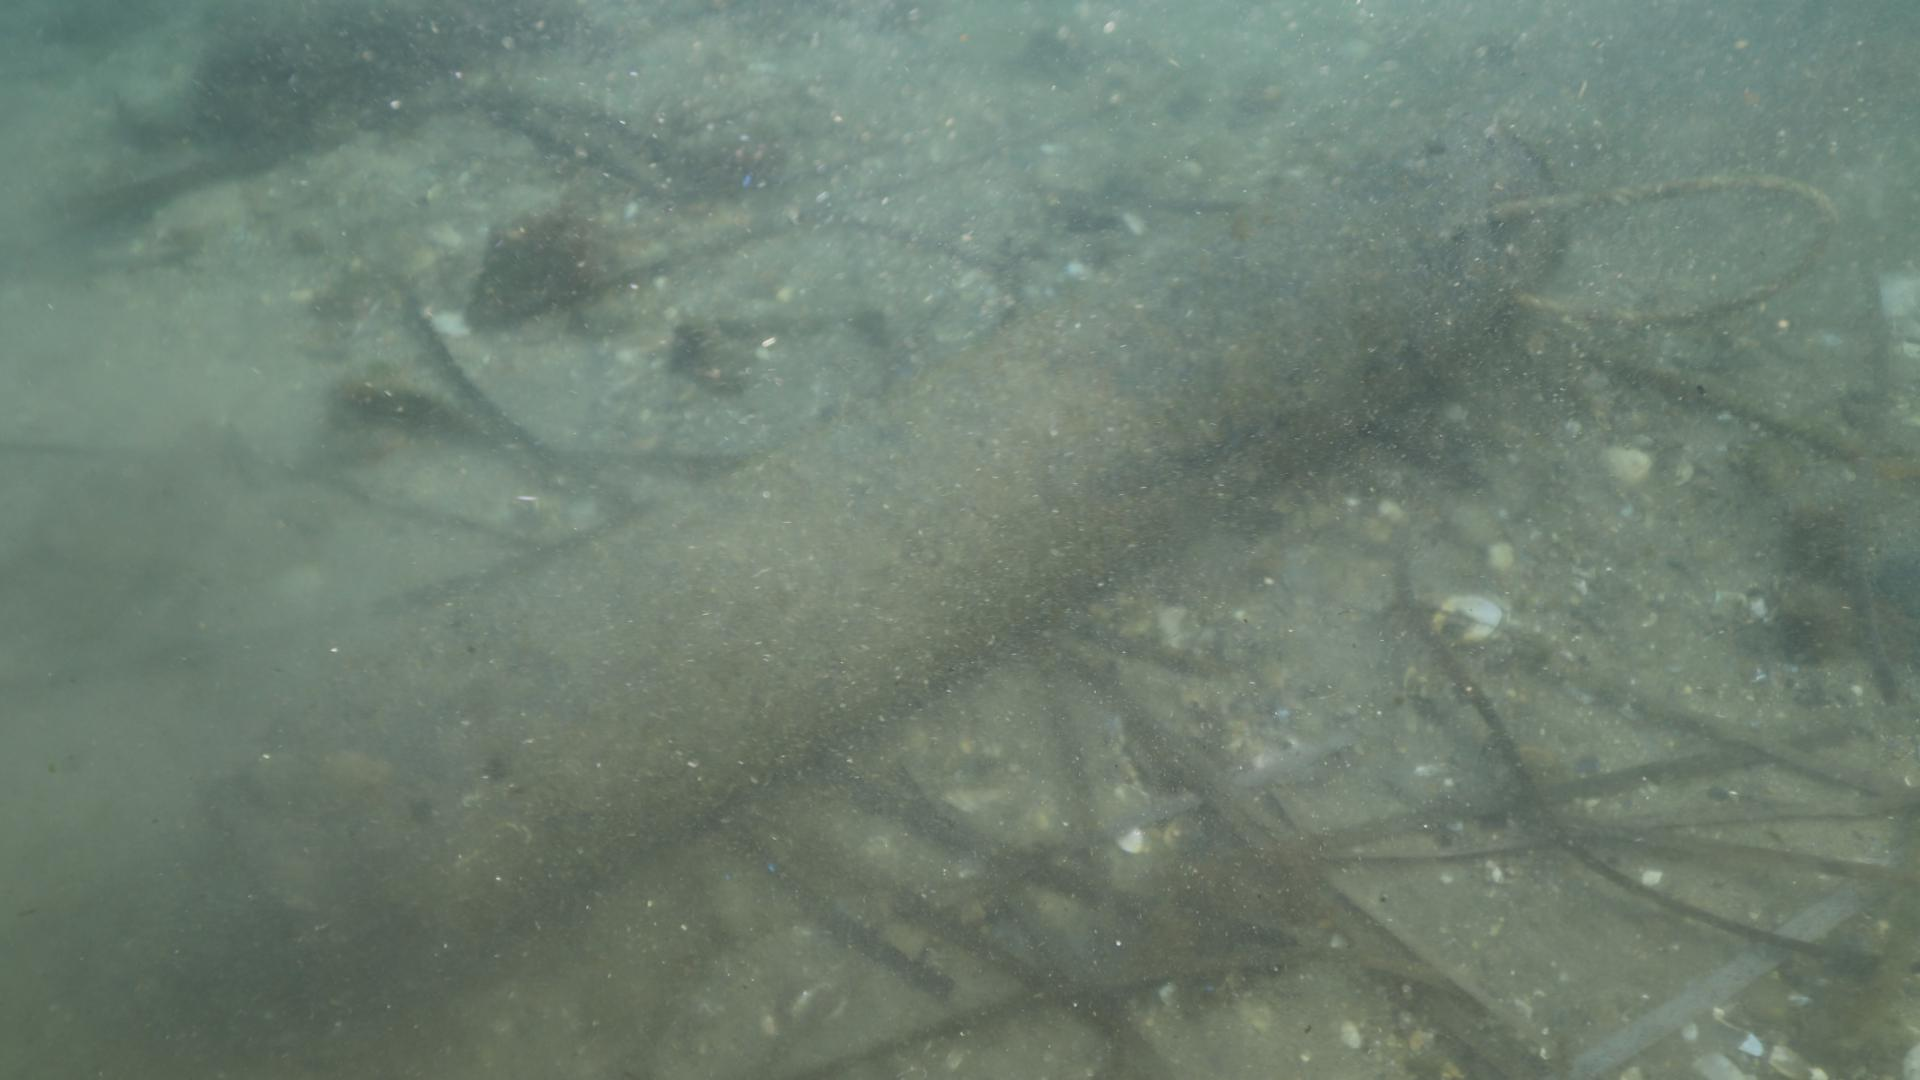eel fish trap: (193, 111, 1575, 1004)
rope: (1469, 160, 1847, 342)
